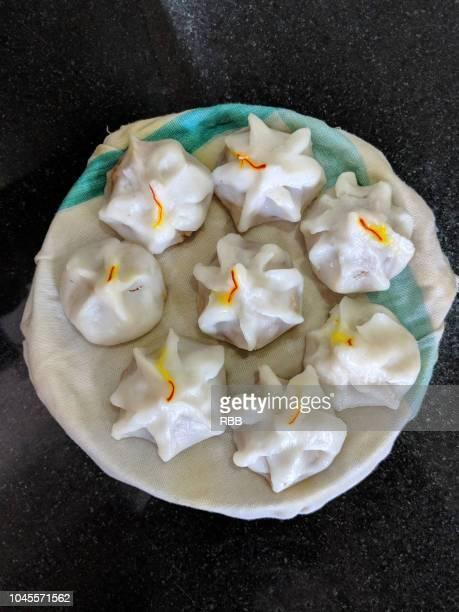modak: (89, 128, 214, 258), (292, 176, 418, 298), (190, 231, 306, 356), (209, 115, 324, 232), (112, 340, 224, 458), (307, 308, 418, 418), (232, 371, 342, 479), (62, 242, 170, 349)
